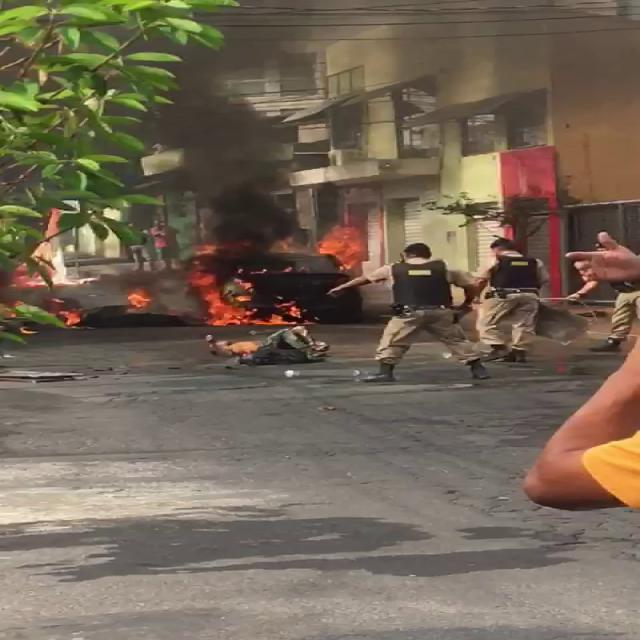Fire: (189, 219, 367, 326), (6, 204, 90, 284), (2, 295, 86, 337), (125, 286, 151, 311)
Smoke: (160, 3, 314, 214)
